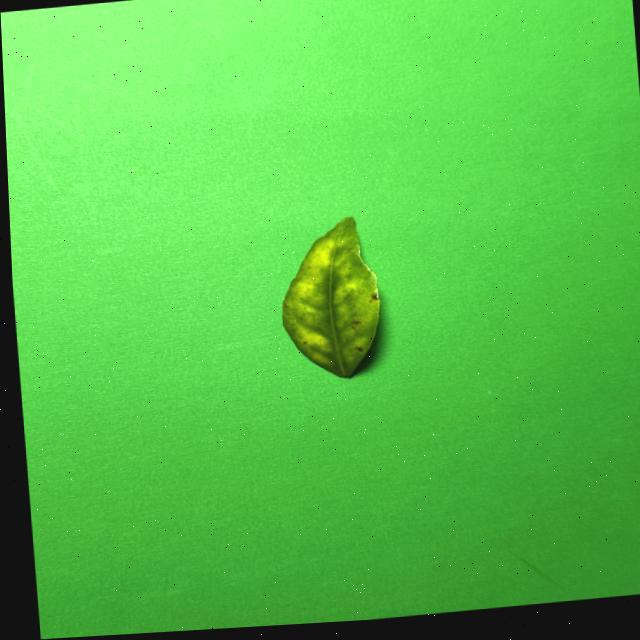greening: (281, 216, 378, 375)
